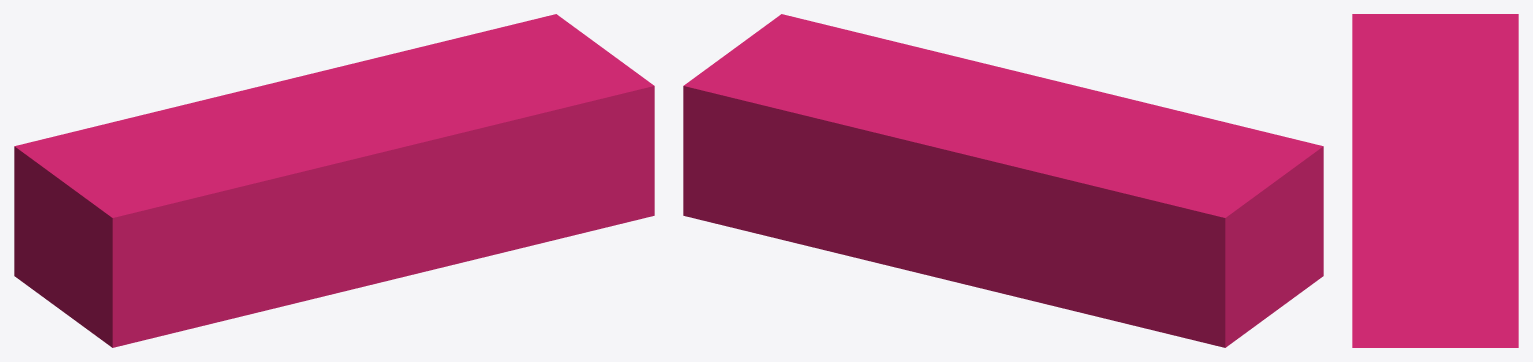
File: barrel_03.fbx
The picture shows the model from 3 angles, left to right: view 1: azimuth 30°, elevation 25°; view 2: azimuth 150°, elevation 25°; view 3: azimuth 270°, elevation 25°; orthographic projection. The views are drawn at different scales.
Parts seen in each view (by area): view 1: barrel_1; view 2: barrel_1; view 3: barrel_1.
Part boxes in pixels (bbox=[...]): barrel_1: bbox=[14, 14, 654, 347]; barrel_1: bbox=[683, 14, 1323, 347]; barrel_1: bbox=[1352, 14, 1518, 347].
Size of the model in its own units: 446 by 102 by 140.
